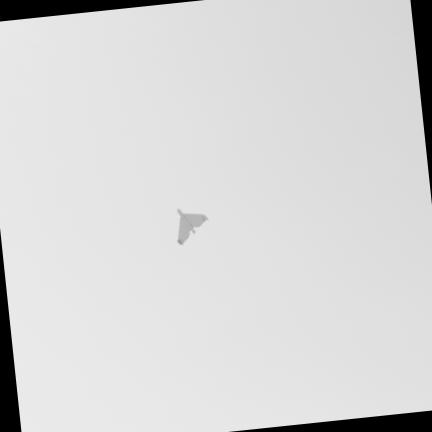Shahed: (177, 208, 210, 245)
